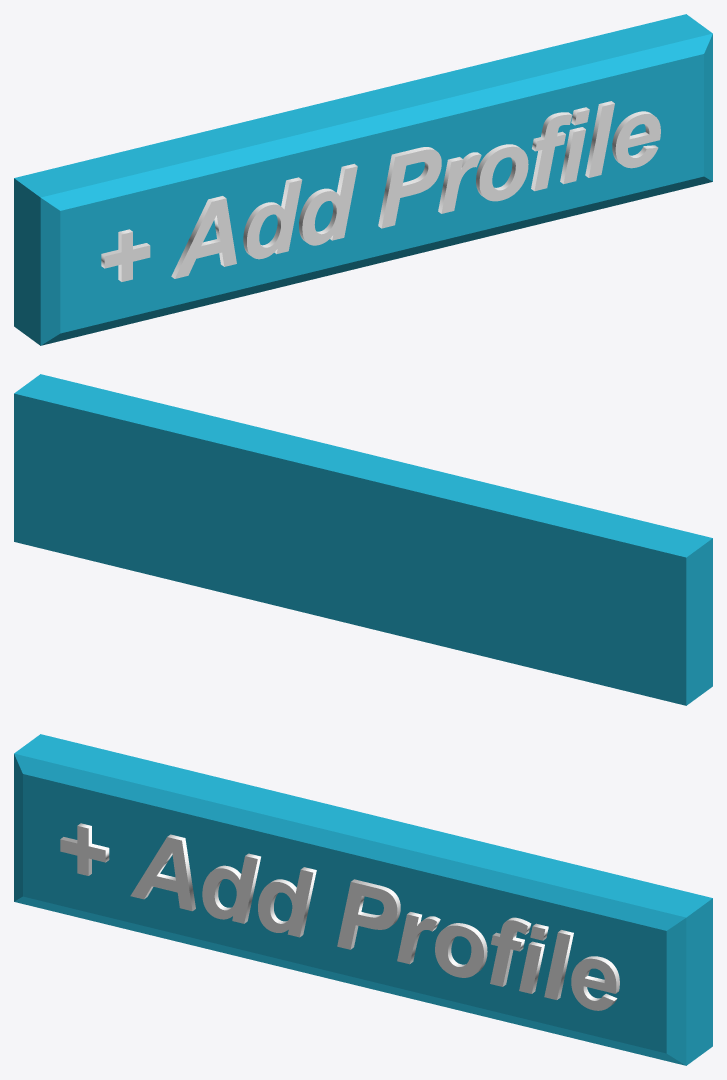
Rendered from Add_Profile_Button.fbx.
3 renders of one model, top to bottom at view 1: azimuth 30°, elevation 25°; view 2: azimuth 150°, elevation 25°; view 3: azimuth 330°, elevation 25°, orthographic.
Parts seen in each view (by area): view 1: Button_Template.004; view 2: Button_Template.004; view 3: Button_Template.004.
Boxes of the visible parts, x1,y1,x2,y2 form: Button_Template.004: (14, 14, 712, 345); Button_Template.004: (14, 374, 712, 705); Button_Template.004: (14, 734, 712, 1065).
Size of the model in its own units: 893 by 188 by 81.75.
